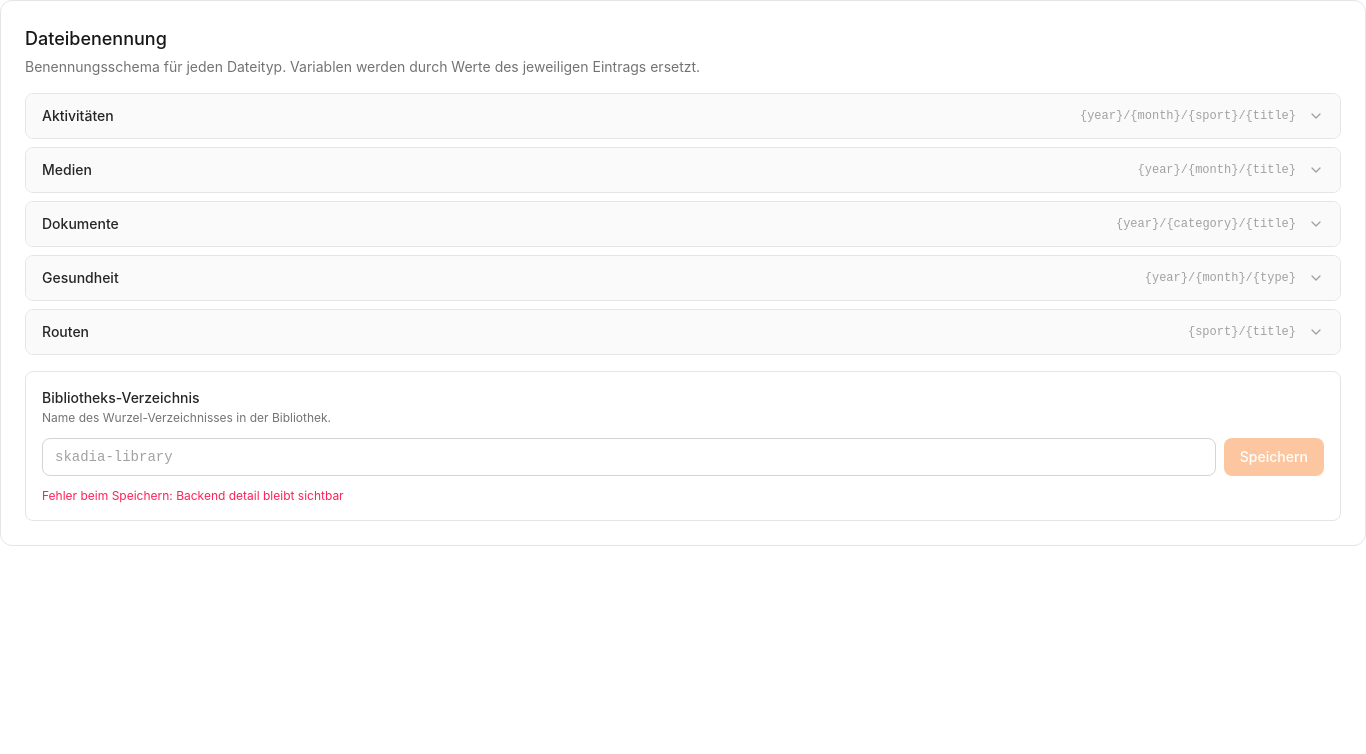
Test: FileSchemaSettings — editable state from context › preserves Error.message details instead of replacing them with the fallback
Click the button "Aktivitäten" at [78, 116], box [26,94,1340,138]
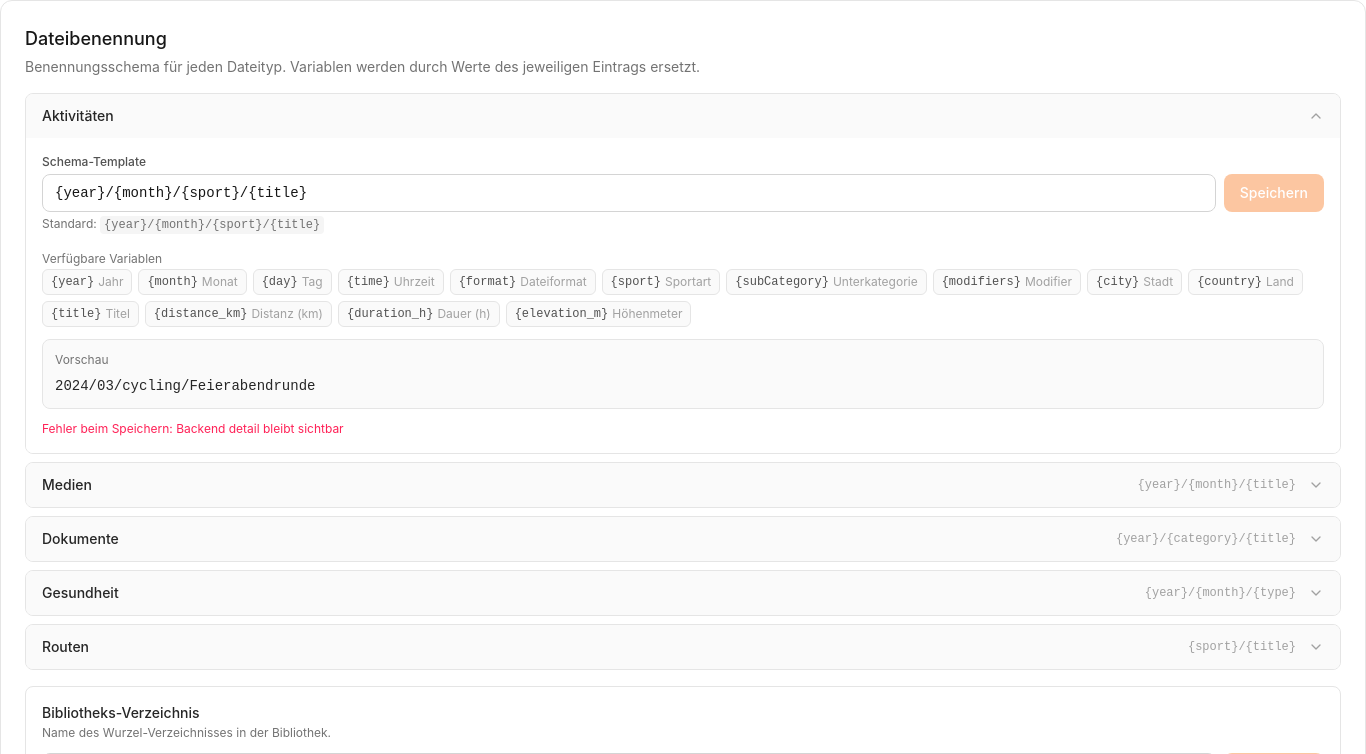
Result: the text "Fehler beim Speichern: Backend detail bleibt sichtbar" is shown at [42,421,344,436]
